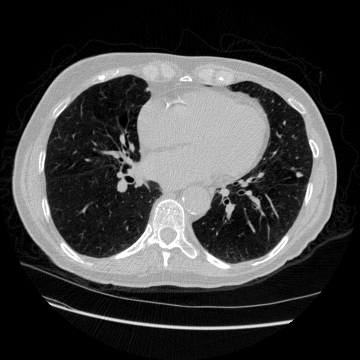nodule: (296, 171, 302, 177)
